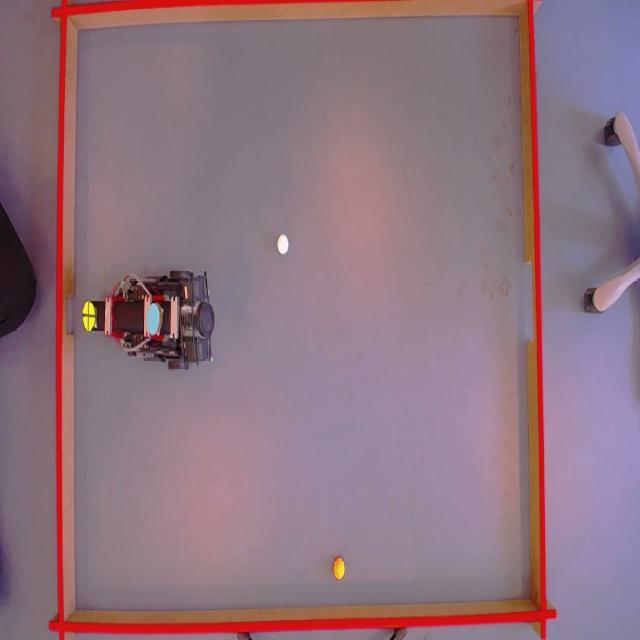orange: (332, 559, 347, 582)
robot: (80, 272, 216, 368)
robot-front: (82, 300, 96, 332)
robot-rear: (146, 300, 163, 332)
white: (276, 234, 288, 255)
